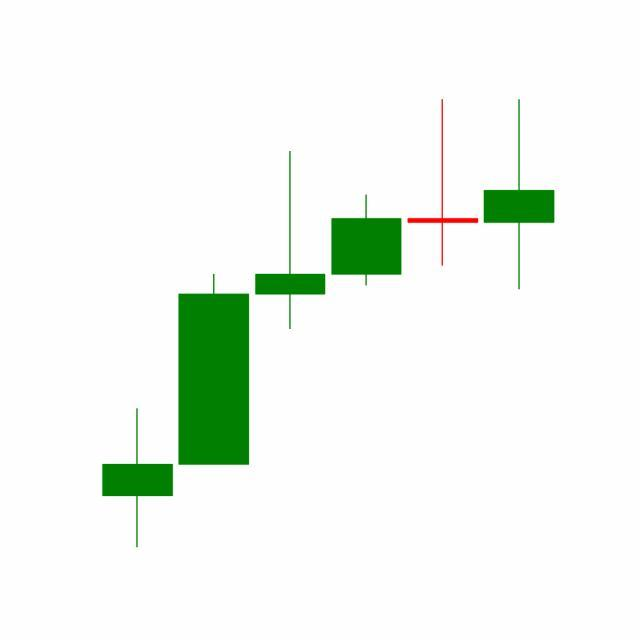Spinning Top: (404, 98, 482, 269)
